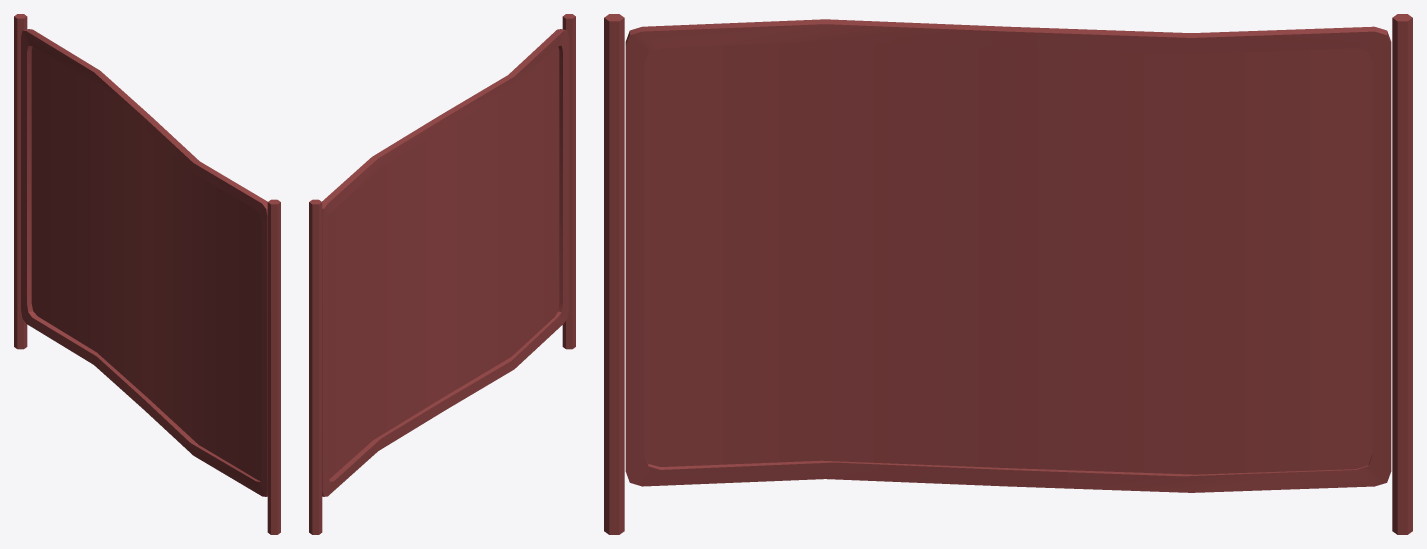
The model's file is SM_FenceGate_01.fbx.
The picture shows the model from 3 angles, left to right: view 1: azimuth 30°, elevation 25°; view 2: azimuth 150°, elevation 25°; view 3: azimuth 270°, elevation 25°; orthographic projection. The views are drawn at different scales.
Visible parts, largest first — view 1: SM_FenceGate_01; view 2: SM_FenceGate_01; view 3: SM_FenceGate_01.
Part boxes in pixels (bbox=[...]): SM_FenceGate_01: bbox=[14, 14, 280, 534]; SM_FenceGate_01: bbox=[309, 14, 575, 534]; SM_FenceGate_01: bbox=[604, 14, 1412, 534].
Size of the model in its own units: 50.83 by 647 by 923.
